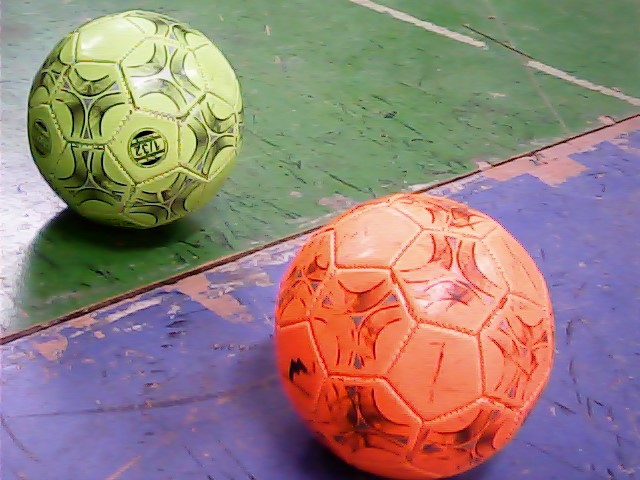Green_ball: (22, 8, 256, 229)
Orange_ball: (266, 182, 559, 480)
